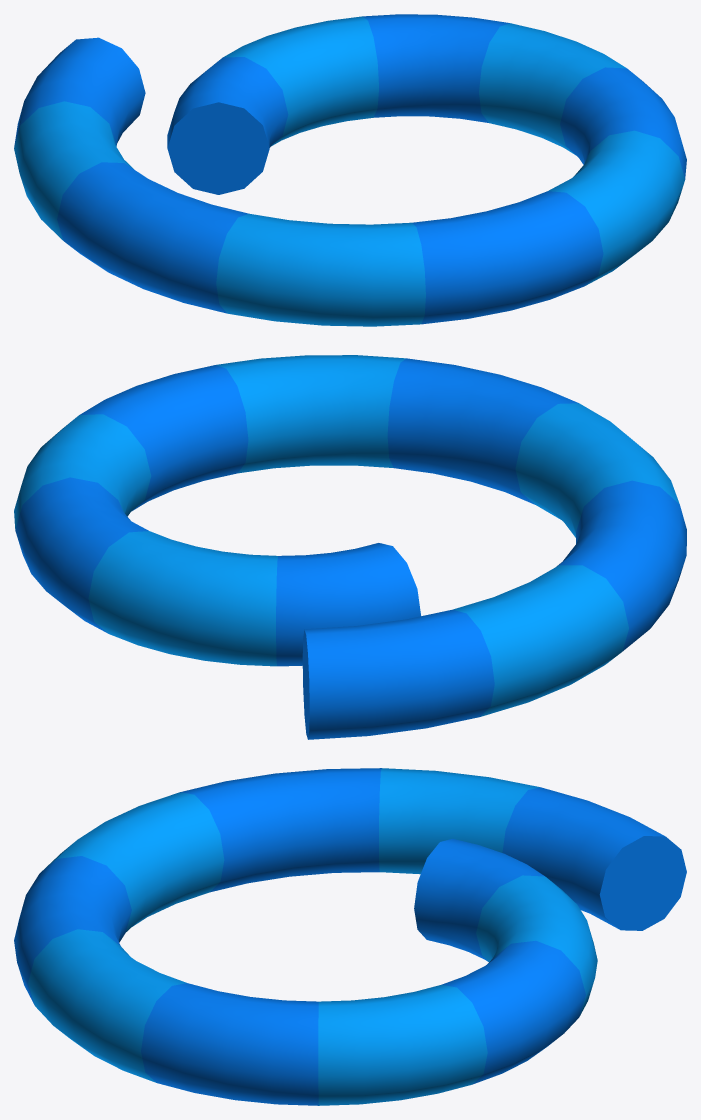
Rendered from cable.FBX.
3 views of the same model, one above another, from view 1: azimuth 30°, elevation 25°; view 2: azimuth 150°, elevation 25°; view 3: azimuth 270°, elevation 25° (orthographic). The views are drawn at different scales.
Visible parts, largest first — view 1: Object008; view 2: Object008; view 3: Object008.
Part boxes in pixels (<box>): Object008: <box>14,14,686,326</box>; Object008: <box>14,355,686,739</box>; Object008: <box>14,768,686,1105</box>.
Size of the model in its own units: 75.95 by 12.48 by 77.25.
1 material, 1 textured.
